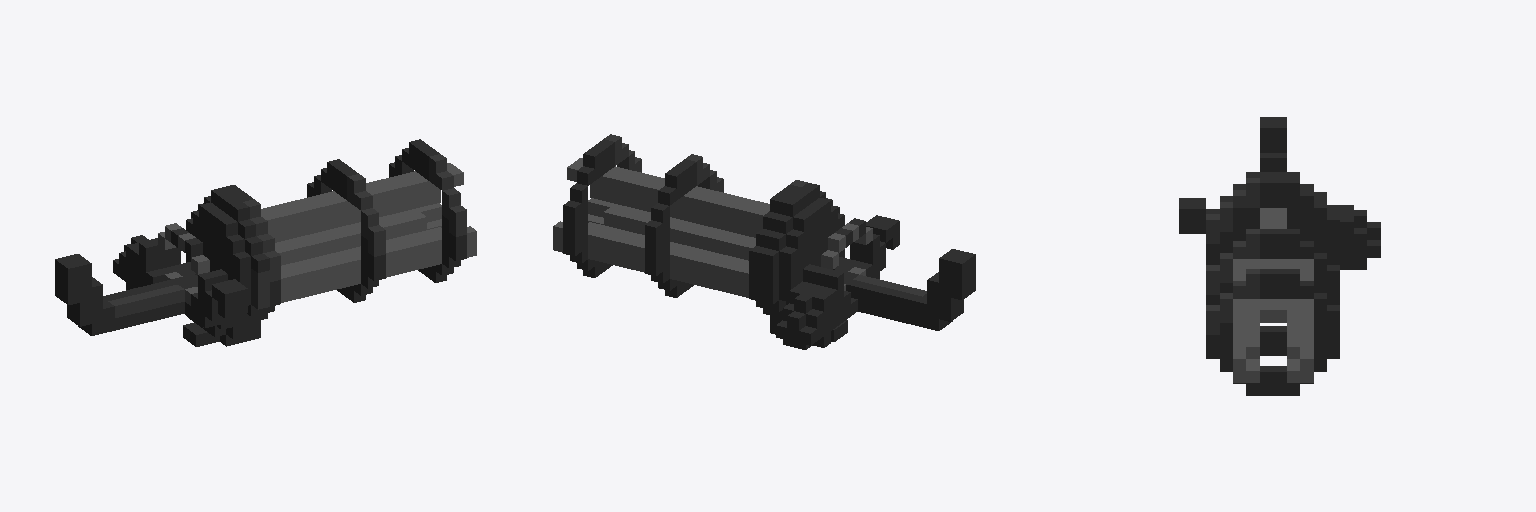
The picture shows the model from 3 angles: view 1: azimuth 30°, elevation 25°; view 2: azimuth 150°, elevation 25°; view 3: azimuth 270°, elevation 25°; orthographic projection.
Bounding box in the file's own units: 34 × 11 × 15.
Materials: 1 (1 with a texture image).